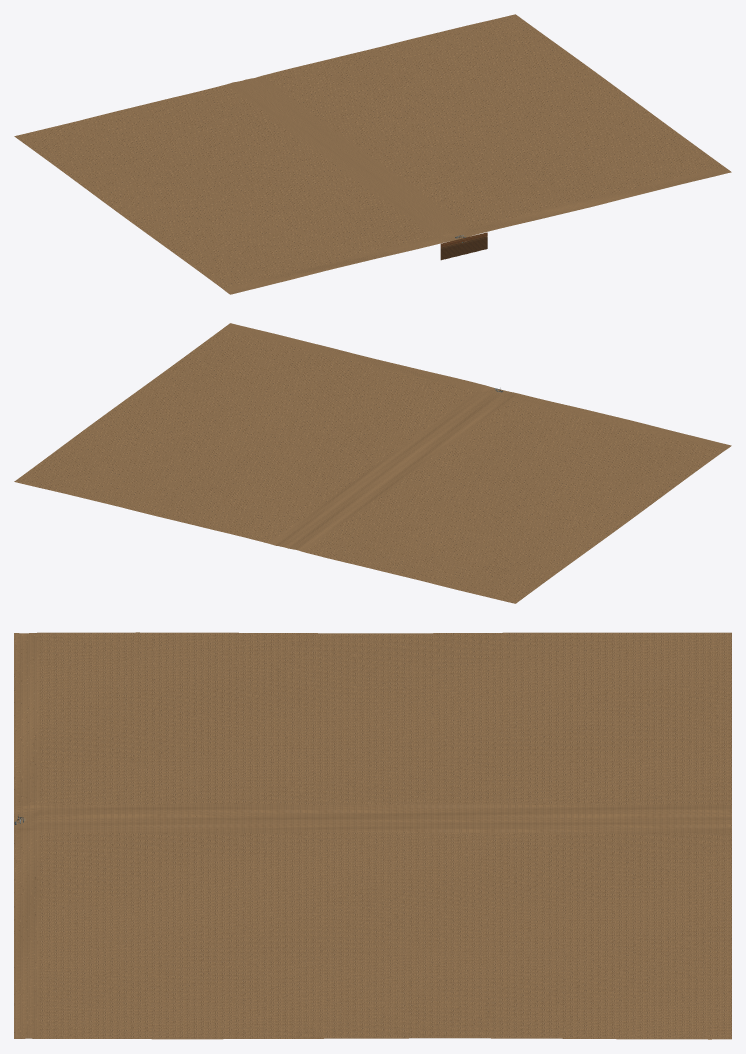
Rendered from patagonia.glb.
3 renders of one model, top to bottom at view 1: azimuth 30°, elevation 25°; view 2: azimuth 150°, elevation 25°; view 3: azimuth 270°, elevation 25°, orthographic. The views are drawn at different scales.
Parts seen in each view (by area): view 1: terrain__photographic_dry_gravel_ground_cc0, geology__photographic_fractured_cliff_layer_5; view 2: terrain__photographic_dry_gravel_ground_cc0; view 3: terrain__photographic_dry_gravel_ground_cc0.
Part boxes in pixels (x1,y1,x2,y2): terrain__photographic_dry_gravel_ground_cc0: (14, 14, 731, 294); geology__photographic_fractured_cliff_layer_5: (440, 238, 487, 260); terrain__photographic_dry_gravel_ground_cc0: (14, 323, 731, 603); terrain__photographic_dry_gravel_ground_cc0: (14, 632, 731, 1039).
Bounding box in the file's own units: 4720 × 181 × 3527.
19 materials, 10 textured.
